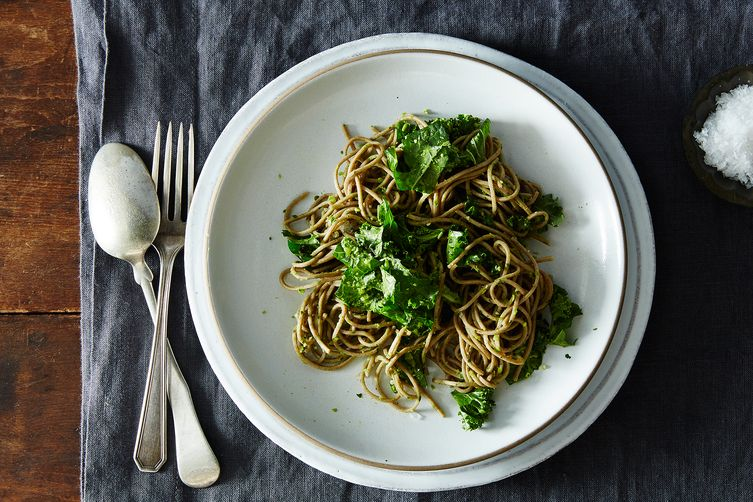Soba: (285, 110, 570, 438)
